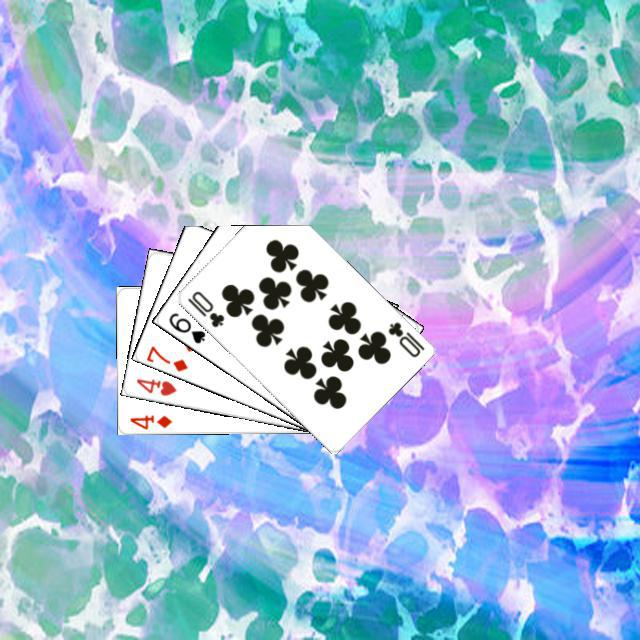10c: (182, 286, 226, 329), (383, 317, 426, 359)
4d: (125, 410, 173, 430)
4h: (131, 373, 178, 398)
6s: (164, 308, 207, 345)
7d: (142, 341, 190, 373)
